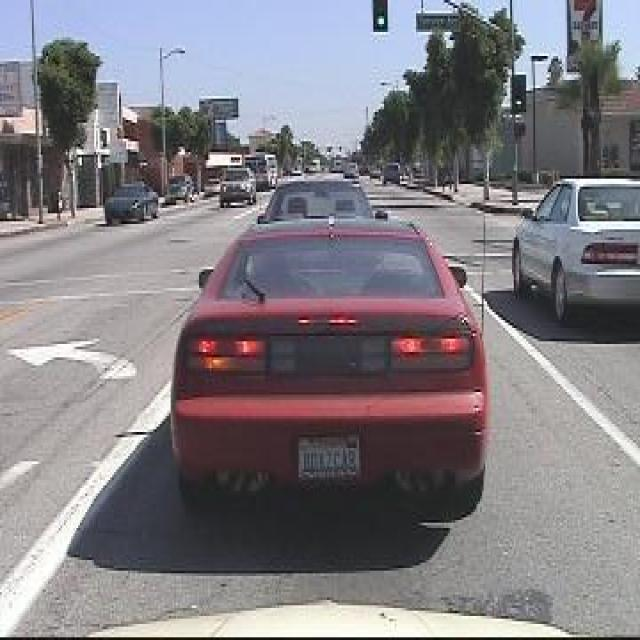car_back: (163, 214, 502, 532), (511, 170, 640, 337)
car_front: (96, 176, 160, 234), (215, 162, 258, 215), (200, 166, 223, 209)
